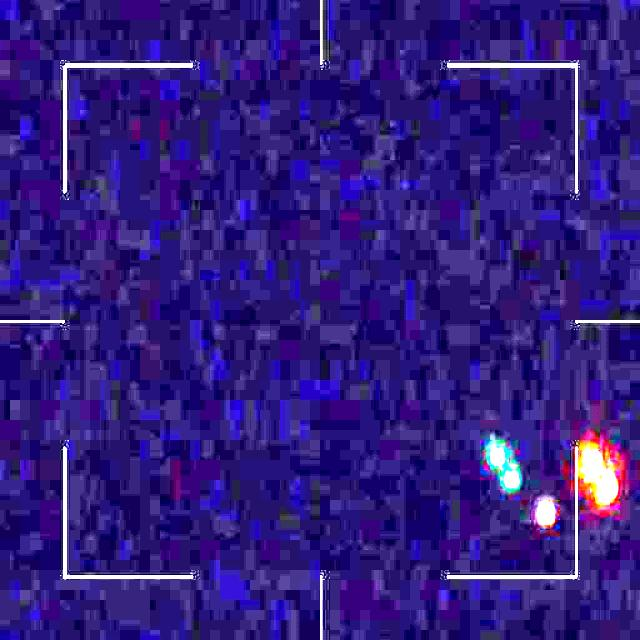bird: (488, 438, 619, 528)
